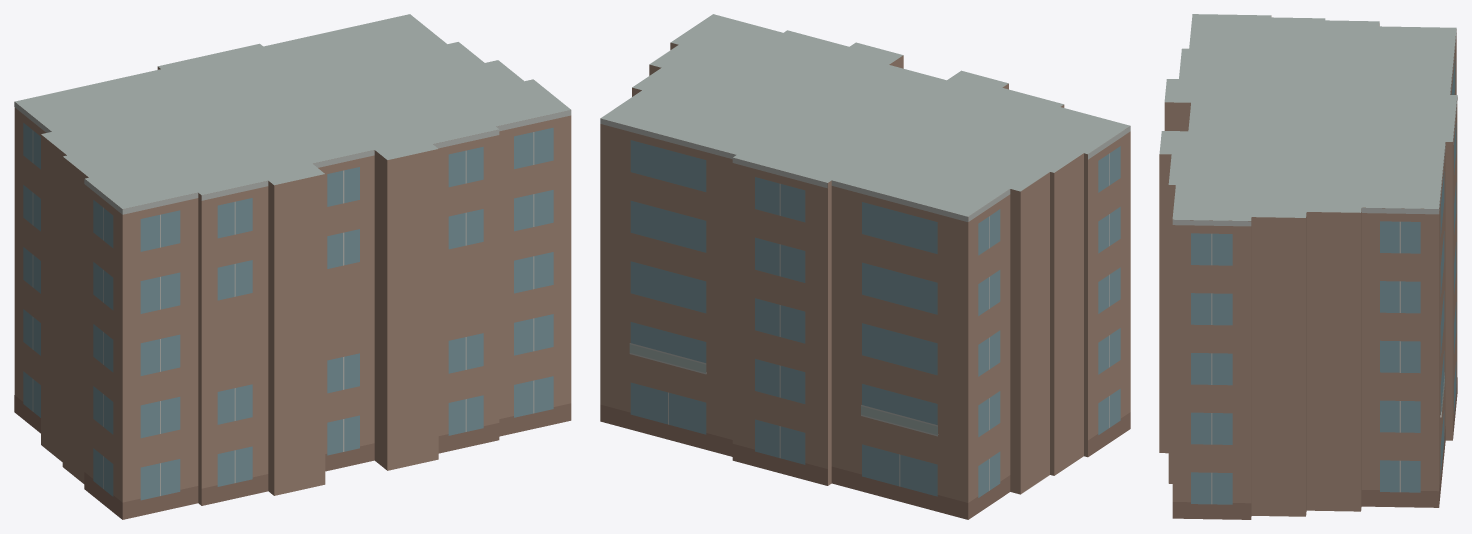
The model's file is survey-upis-32616308.glb.
3 renders of one model, left to right at view 1: azimuth 30°, elevation 25°; view 2: azimuth 150°, elevation 25°; view 3: azimuth 270°, elevation 25°, orthographic. The views are drawn at different scales.
Visible parts, largest first — view 1: survey-upis-32616308.tmp; view 2: survey-upis-32616308.tmp; view 3: survey-upis-32616308.tmp.
Boxes of the visible parts, x1,y1,x2,y2 form: survey-upis-32616308.tmp: (14, 14, 571, 519); survey-upis-32616308.tmp: (600, 14, 1130, 519); survey-upis-32616308.tmp: (1159, 14, 1457, 519).
Bounding box in the file's own units: 20.3 × 13.65 × 12.34.
